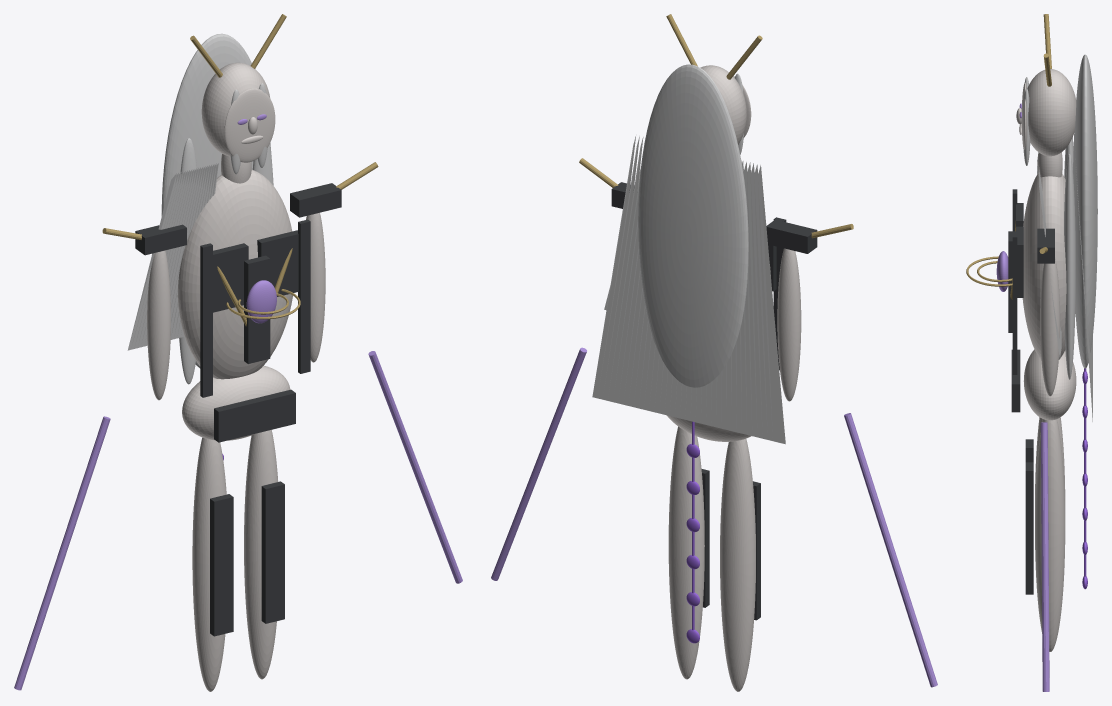
The model's file is lilith_character.glb.
The picture shows the model from 3 angles, left to right: view 1: azimuth 30°, elevation 25°; view 2: azimuth 150°, elevation 25°; view 3: azimuth 270°, elevation 25°; orthographic projection. The views are drawn at different scales.
Parts seen in each view (by area): view 1: BODY_SKIN_TORSO, HAIR_PRIMARY_BACK_VOLUME, BODY_SKIN_L_LEG, BODY_SKIN_R_LEG, ARMOR_OUTER_L_LEG, ARMOR_OUTER_R_LEG, BODY_SKIN_PELVIS, BODY_SKIN_L_ARM, ARMOR_OUTER_PELVIS_LOCK, BODY_SKIN_HEAD, BODY_SKIN_FACE_PLANE, WEAPON_VIOLET_BLADE_L (+10 smaller); view 2: HAIR_PRIMARY_BACK_VOLUME, BODY_SKIN_L_LEG, BODY_SKIN_R_LEG, BODY_SKIN_L_ARM, WEAPON_VIOLET_BLADE_L, HAIR_CARD_BACK_000, HAIR_CARD_BACK_001, WEAPON_VIOLET_BLADE_R, HAIR_CARD_BACK_035, HAIR_CARD_BACK_002, HAIR_CARD_BACK_032, HAIR_CARD_BACK_034 (+15 smaller); view 3: HAIR_PRIMARY_BACK_VOLUME, BODY_SKIN_TORSO, BODY_SKIN_R_LEG, BODY_SKIN_HEAD, BODY_SKIN_PELVIS, BODY_SKIN_R_ARM, HAIR_SIDE_R, WEAPON_VIOLET_BLADE_R, ARMOR_OUTER_R_LEG, ARMOR_OUTER_R_SHOULDER, BODY_SKIN_NECK, ARMOR_OUTER_PELVIS_LOCK (+9 smaller).
Part boxes in pixels (x1,y1,x2,y2): BODY_SKIN_TORSO: [177, 169, 292, 379]; HAIR_PRIMARY_BACK_VOLUME: [161, 33, 271, 368]; BODY_SKIN_L_LEG: [192, 437, 226, 691]; BODY_SKIN_R_LEG: [244, 430, 278, 679]; ARMOR_OUTER_L_LEG: [210, 494, 233, 636]; ARMOR_OUTER_R_LEG: [261, 481, 284, 623]; BODY_SKIN_PELVIS: [182, 365, 290, 440]; BODY_SKIN_L_ARM: [147, 250, 170, 400]; ARMOR_OUTER_PELVIS_LOCK: [214, 389, 295, 442]; BODY_SKIN_HEAD: [201, 62, 270, 156]; BODY_SKIN_FACE_PLANE: [224, 88, 275, 162]; WEAPON_VIOLET_BLADE_L: [14, 416, 110, 690]; HAIR_PRIMARY_BACK_VOLUME: [638, 64, 748, 387]; BODY_SKIN_L_LEG: [720, 438, 755, 691]; BODY_SKIN_R_LEG: [668, 426, 704, 679]; BODY_SKIN_L_ARM: [777, 248, 801, 401]; WEAPON_VIOLET_BLADE_L: [844, 413, 937, 687]; HAIR_CARD_BACK_000: [758, 165, 785, 444]; HAIR_CARD_BACK_001: [754, 164, 779, 442]; WEAPON_VIOLET_BLADE_R: [491, 347, 586, 580]; HAIR_CARD_BACK_035: [592, 136, 635, 399]; HAIR_CARD_BACK_002: [750, 163, 775, 441]; HAIR_CARD_BACK_032: [608, 174, 640, 403]; HAIR_CARD_BACK_034: [600, 136, 639, 400]; HAIR_PRIMARY_BACK_VOLUME: [1073, 54, 1097, 368]; BODY_SKIN_TORSO: [1022, 173, 1075, 359]; BODY_SKIN_R_LEG: [1035, 419, 1065, 651]; BODY_SKIN_HEAD: [1027, 69, 1076, 156]; BODY_SKIN_PELVIS: [1023, 349, 1076, 420]; BODY_SKIN_R_ARM: [1040, 258, 1060, 396]; HAIR_SIDE_R: [1064, 154, 1075, 379]; WEAPON_VIOLET_BLADE_R: [1040, 422, 1049, 691]; ARMOR_OUTER_R_LEG: [1025, 462, 1033, 594]; ARMOR_OUTER_R_SHOULDER: [1037, 228, 1054, 263]; BODY_SKIN_NECK: [1037, 152, 1062, 177]; ARMOR_OUTER_PELVIS_LOCK: [1011, 349, 1020, 412].
Bounding box in the file's own units: 2.43 × 3.44 × 0.676.
